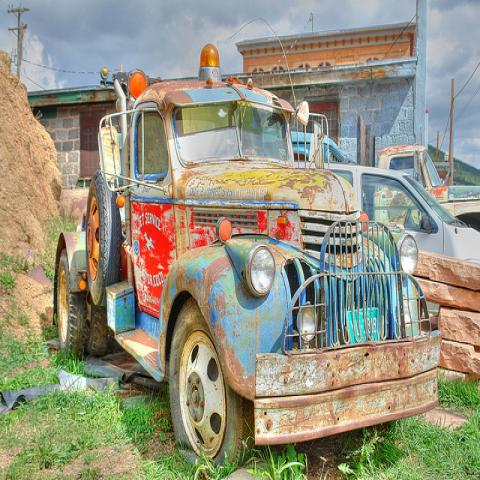car: (297, 162, 479, 265)
truck: (52, 41, 445, 466), (376, 143, 479, 234)
